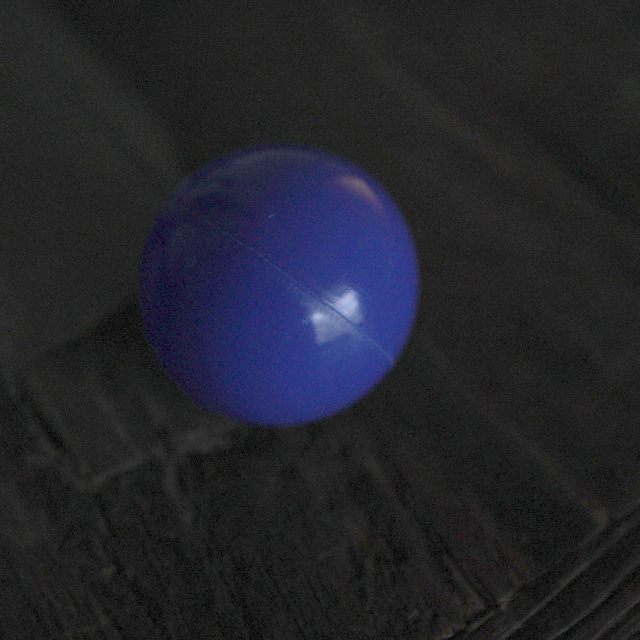Ball: (142, 148, 418, 425)
